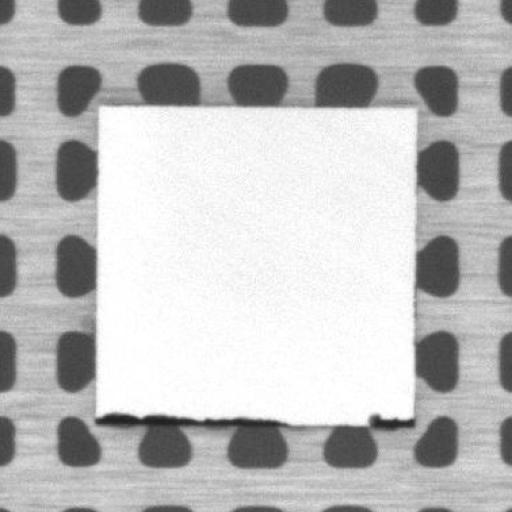DIE_BROKEN: (91, 404, 416, 430)
